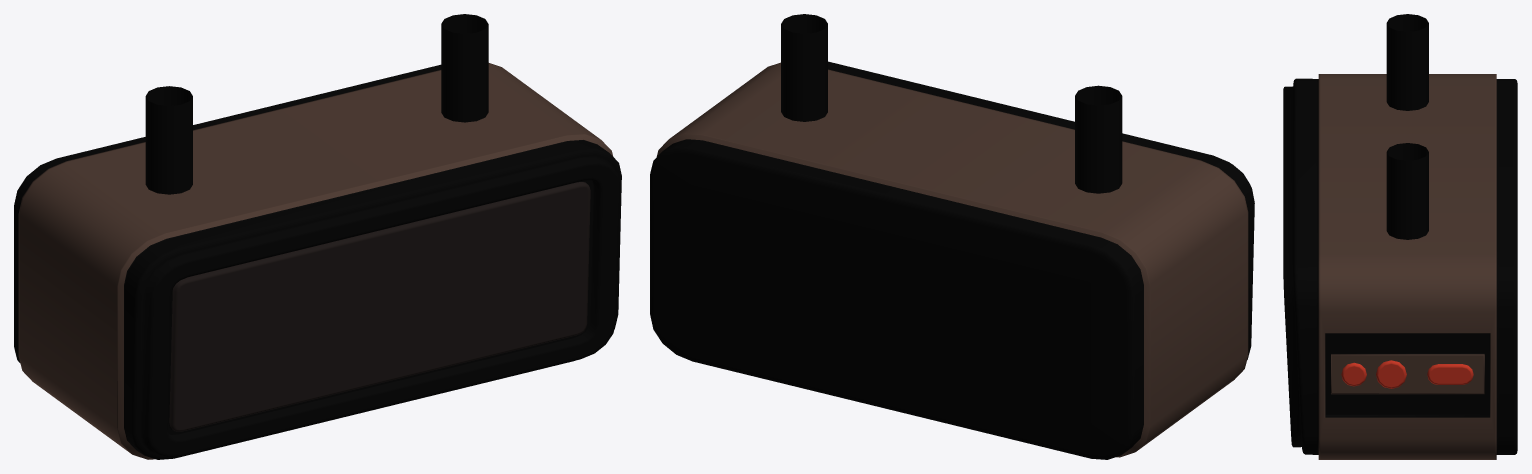
File: LVR_Scoreboard.fbx
The picture shows the model from 3 angles, left to right: view 1: azimuth 30°, elevation 25°; view 2: azimuth 150°, elevation 25°; view 3: azimuth 270°, elevation 25°; orthographic projection. The views are drawn at different scales.
Visible parts, largest first — view 1: scoreboard; view 2: scoreboard; view 3: scoreboard.
Boxes of the visible parts, x1,y1,x2,y2 form: scoreboard: [14, 14, 621, 459]; scoreboard: [650, 14, 1254, 459]; scoreboard: [1283, 14, 1517, 459].
Size of the model in its own units: 42.87 by 25.75 by 19.55.
